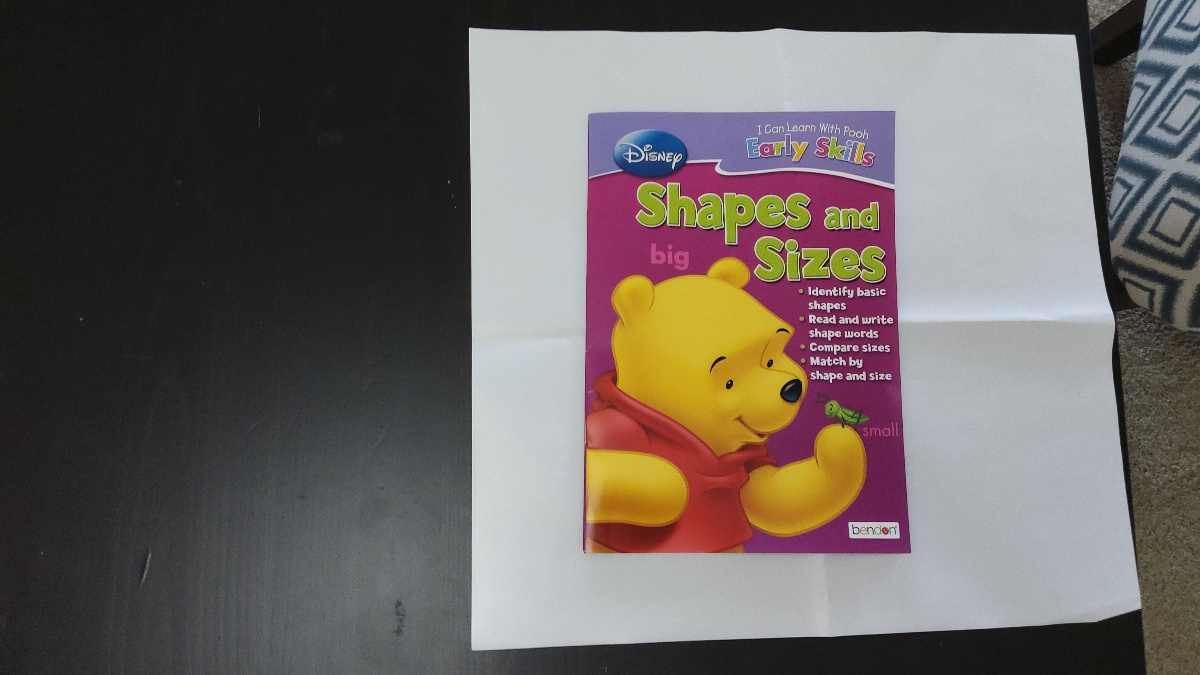book: (591, 114, 909, 551)
